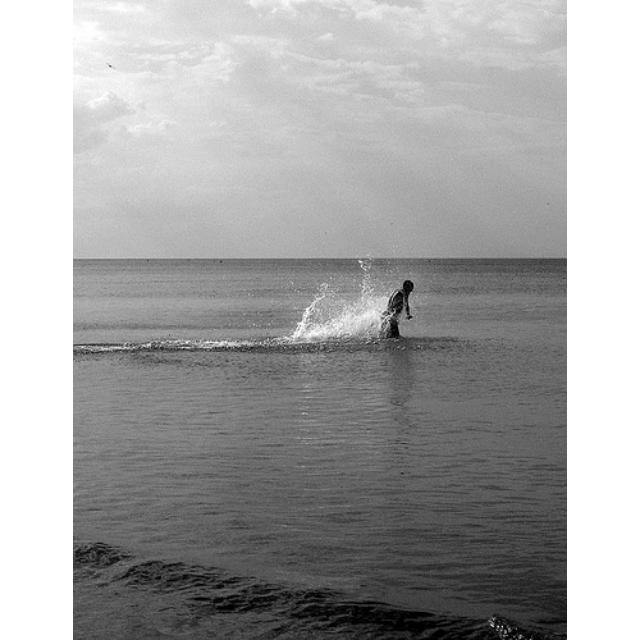human: (383, 277, 415, 334)
